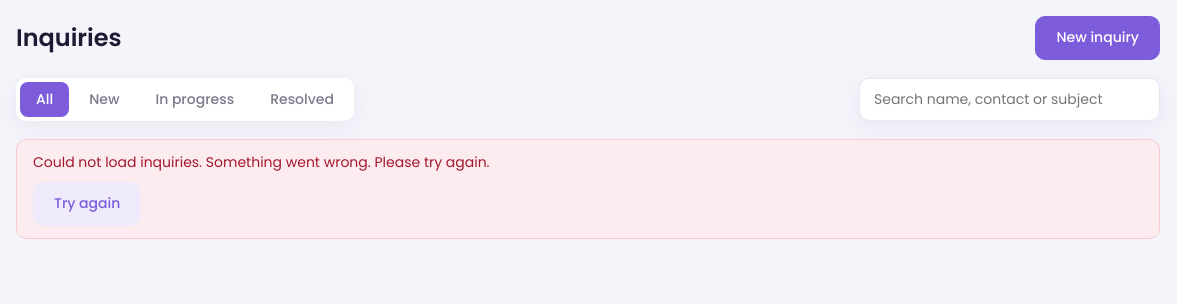
Scenario: InquiryListPage › shows an error with a retry button when loading fails
Expected: the message shows "Could not load inquiries", top-left (33, 152), bottom-right (206, 172)
Step 1. Click the button "Try again" → click(87, 204), box top-left (33, 182), bottom-right (141, 226)
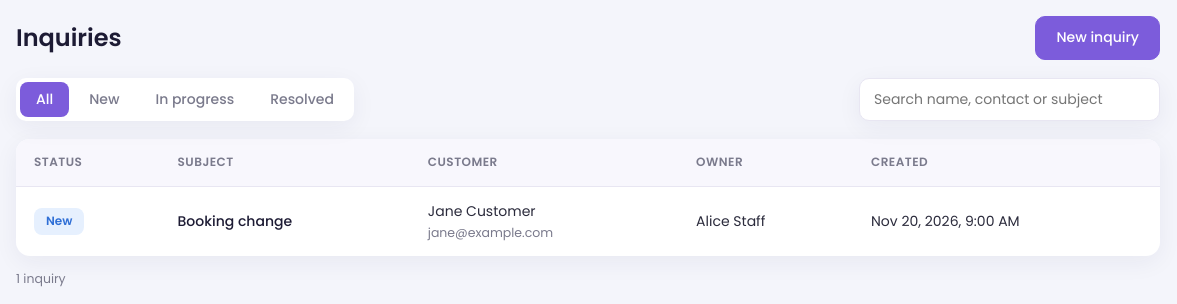
Result: the link "Booking change" is shown at top-left (178, 211), bottom-right (292, 231)
